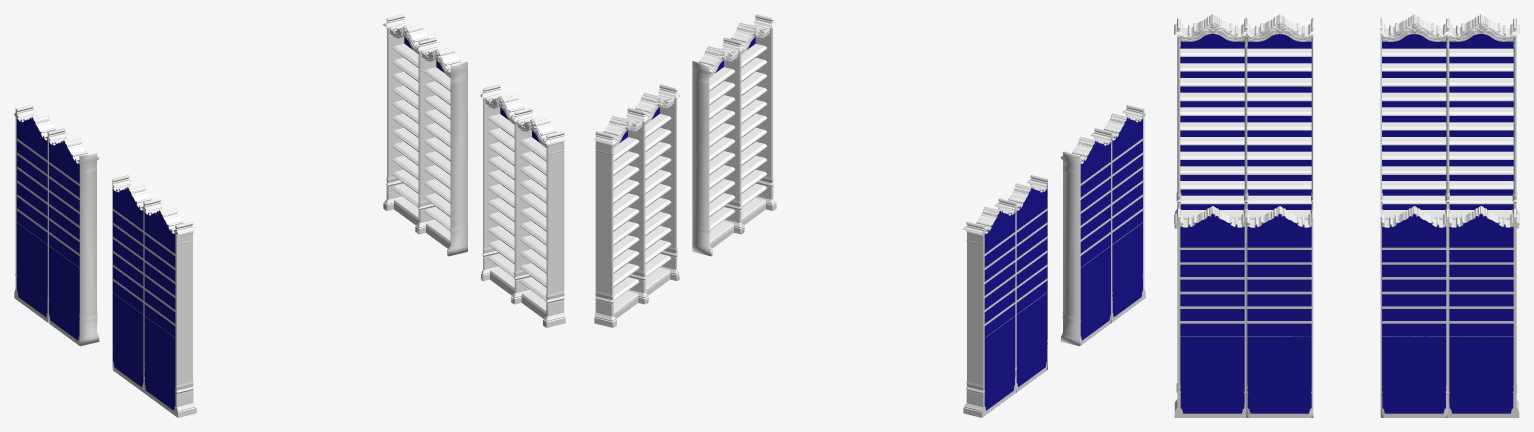
File: Bookshelves with Fireplace Place (1).fbx
3 renders of one model, left to right at view 1: azimuth 30°, elevation 25°; view 2: azimuth 150°, elevation 25°; view 3: azimuth 270°, elevation 25°, orthographic. The views are drawn at different scales.
Parts seen in each view (by area): view 1: Left Bookshelf.005, Mid Bookshelf.006; view 2: Left Bookshelf.005, Mid Bookshelf.006; view 3: Left Bookshelf.005, Mid Bookshelf.006.
Part boxes in pixels (x1,y1,x2,y2): Left Bookshelf.005: (14,14,565,417); Mid Bookshelf.006: (48,38,531,392); Left Bookshelf.005: (594,14,1145,417); Mid Bookshelf.006: (628,37,1111,392); Left Bookshelf.005: (1174,14,1519,417); Mid Bookshelf.006: (1246,14,1447,417).
Size of the model in its own units: 8586 by 4118 by 6301.
